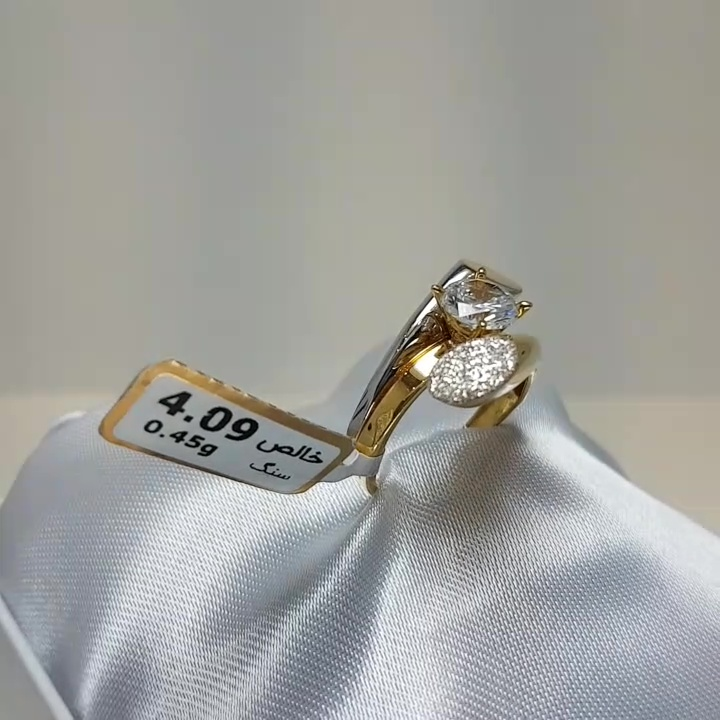Ring 7: (327, 252, 570, 487)
